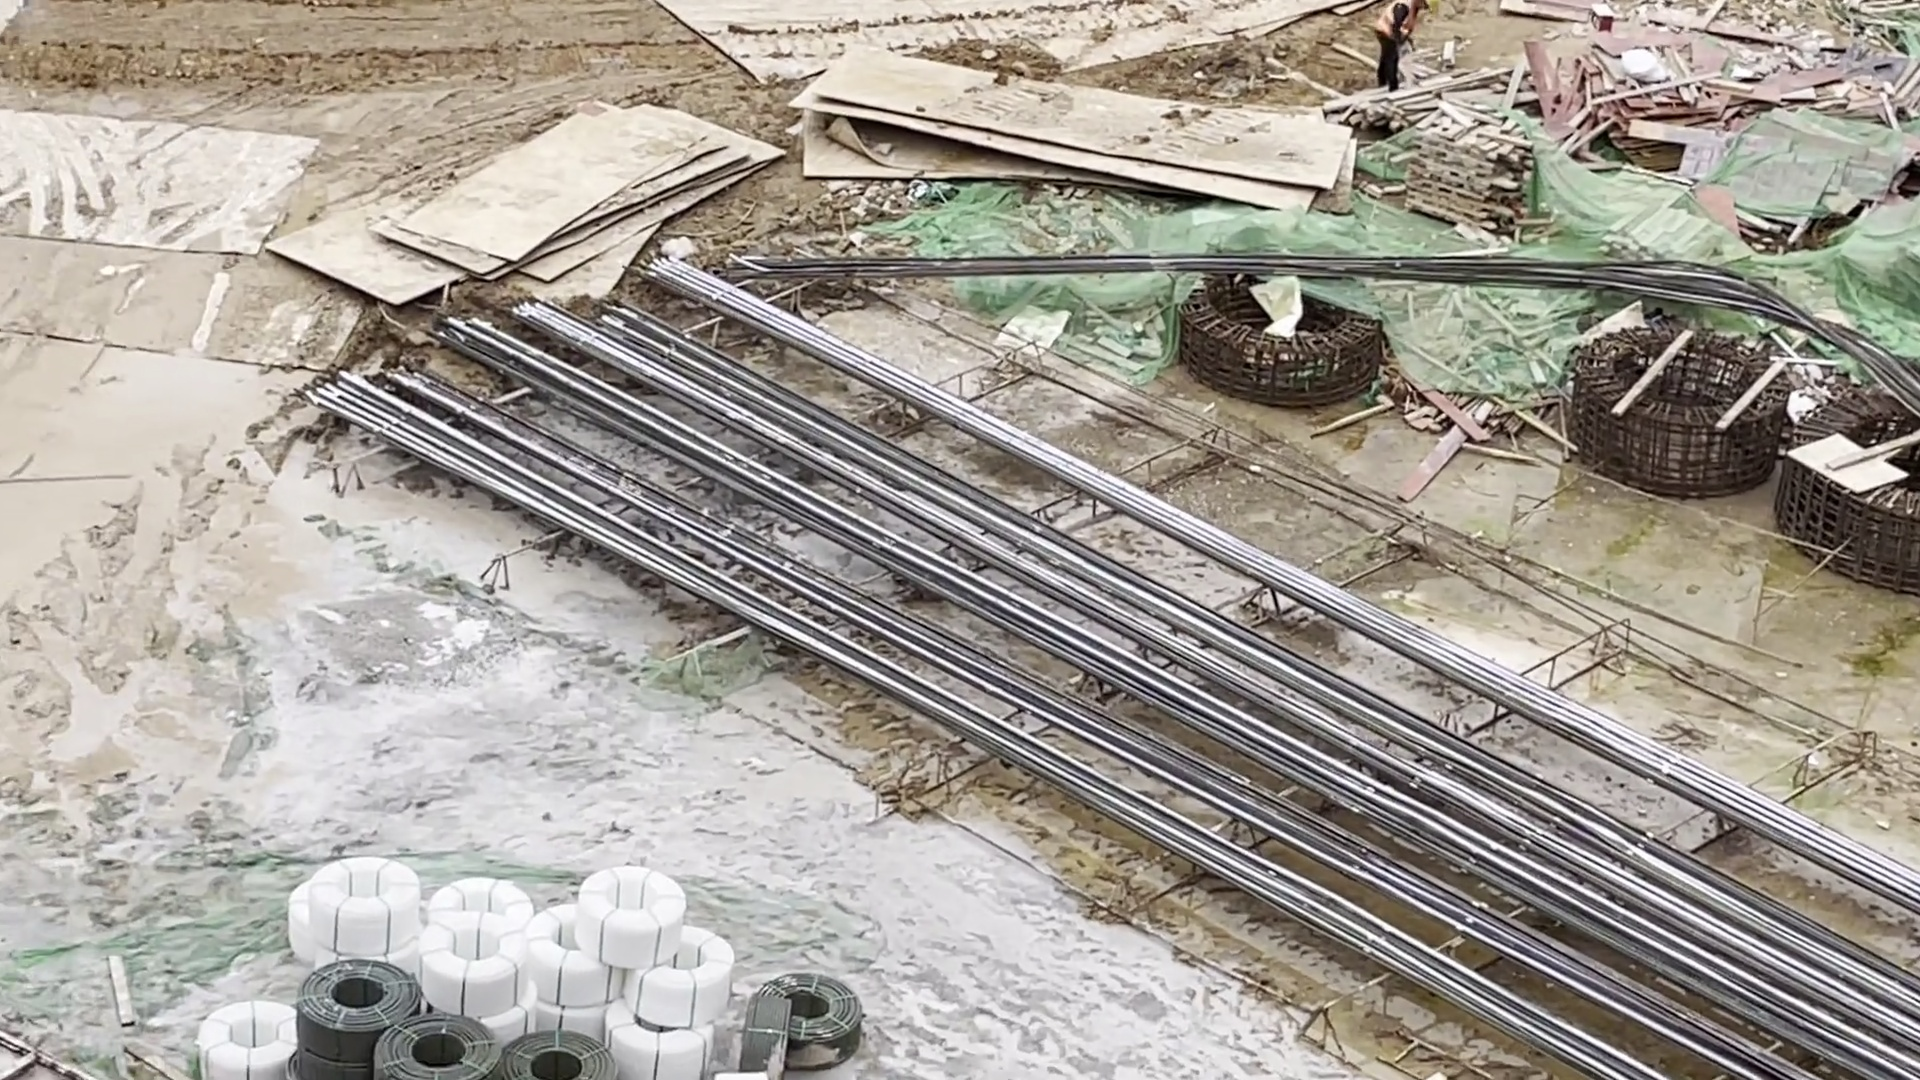board: (1535, 23, 1913, 207)
person: (1377, 1, 1424, 91)
rebar: (1250, 675, 1920, 1075), (493, 311, 1153, 709)
vest: (1377, 5, 1422, 47)
